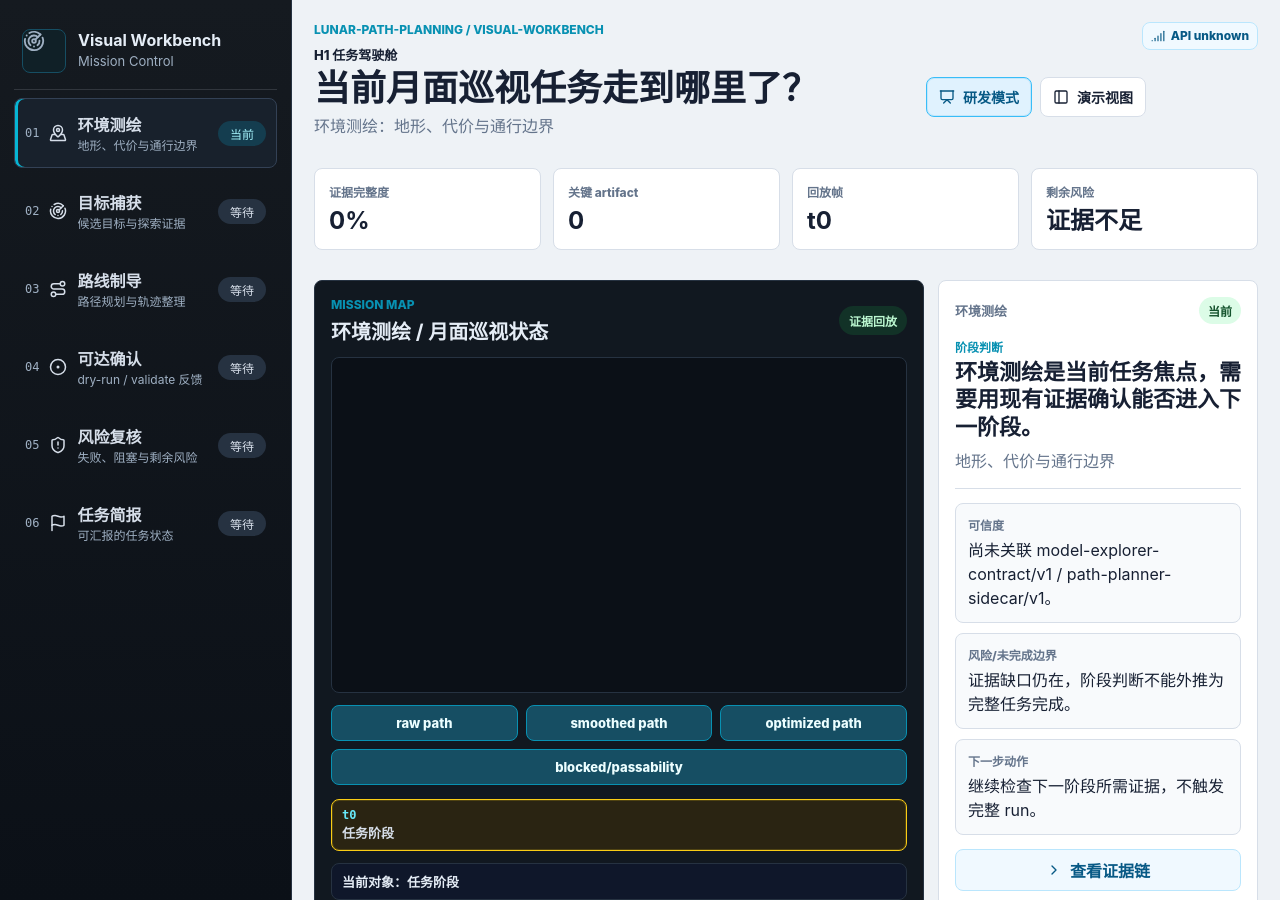
Test: App › preserves manual stage selection made before async artifacts finish loading
Click the button "06 任务简报 可汇报的任务状态 等待" at (109, 515), box 14,488 -> 277,558
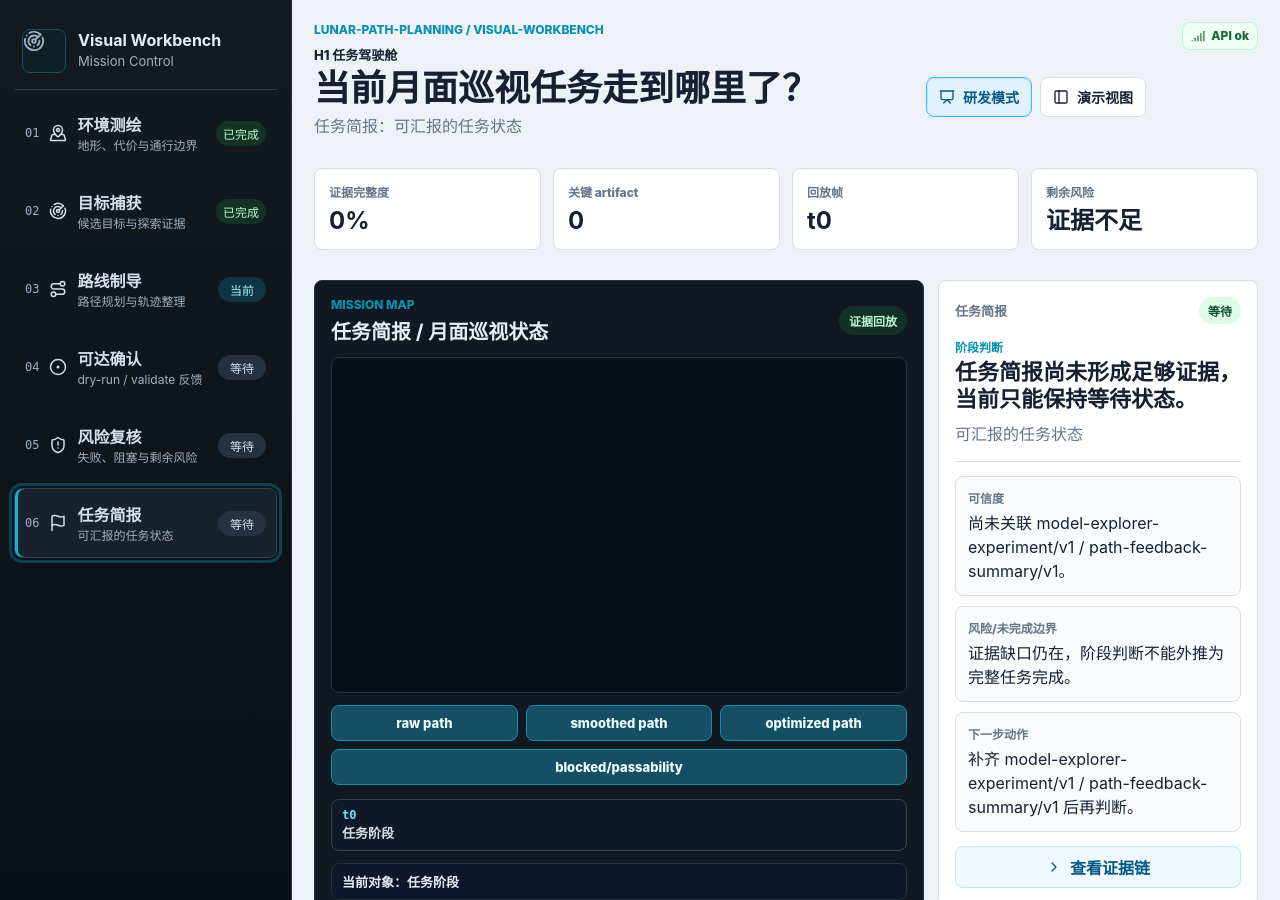
Check: the heading "任务简报尚未形成足够证据，当前只能保持等待状态。" is shown, box 955,359 -> 1241,414
